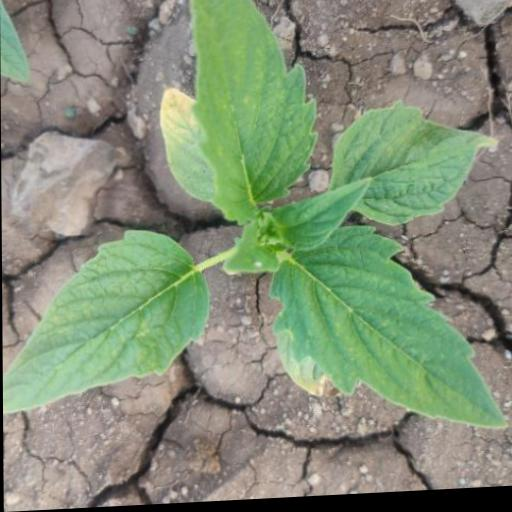crop: (9, 0, 506, 459)
